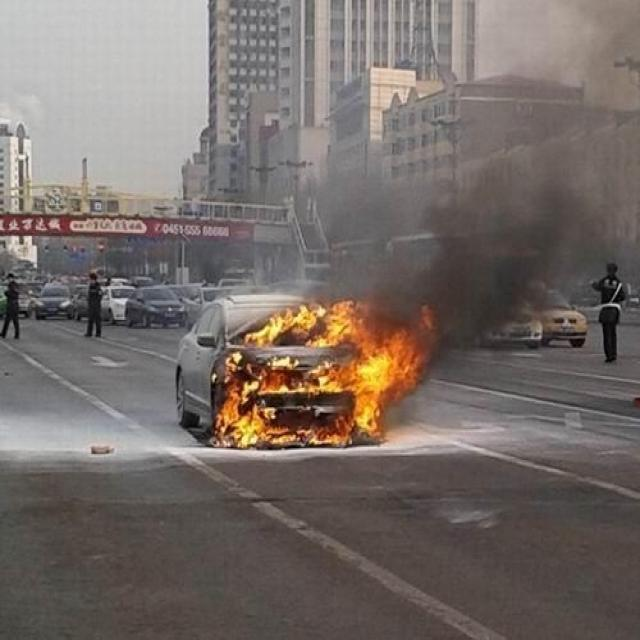Fire: (212, 298, 438, 450)
Smoke: (302, 1, 640, 379)
